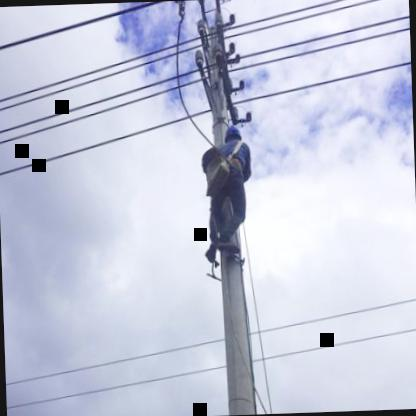helmet: (218, 124, 248, 154)
